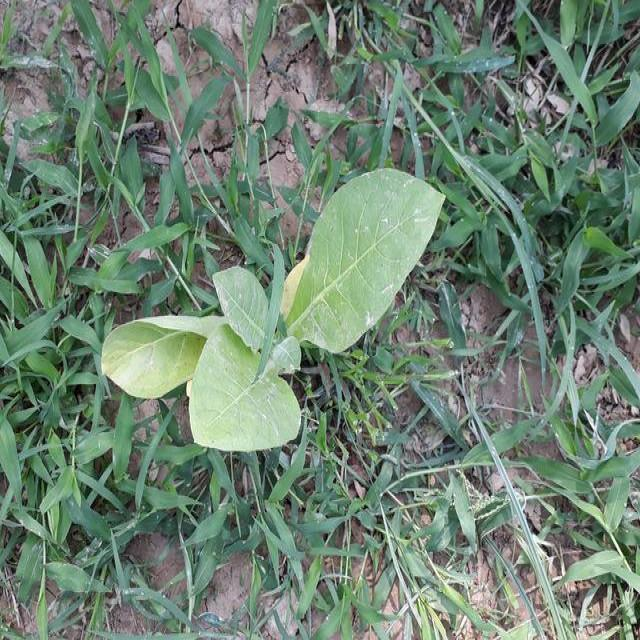crop: (89, 157, 451, 460)
